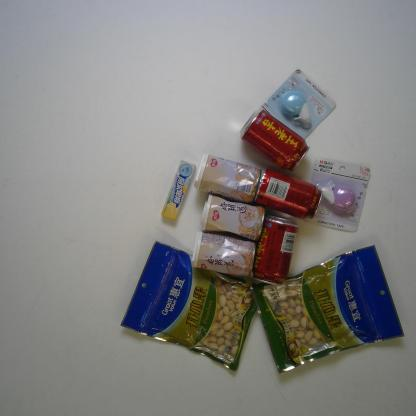Candy: (160, 160, 197, 220)
Canned Food: (194, 153, 262, 205), (200, 193, 265, 242), (191, 231, 256, 279)
Dried Fruit: (249, 244, 405, 374), (120, 240, 259, 373)
Drink: (239, 108, 310, 172), (253, 167, 323, 220), (251, 214, 299, 286)
Stationery: (257, 68, 338, 140), (302, 156, 370, 232)
